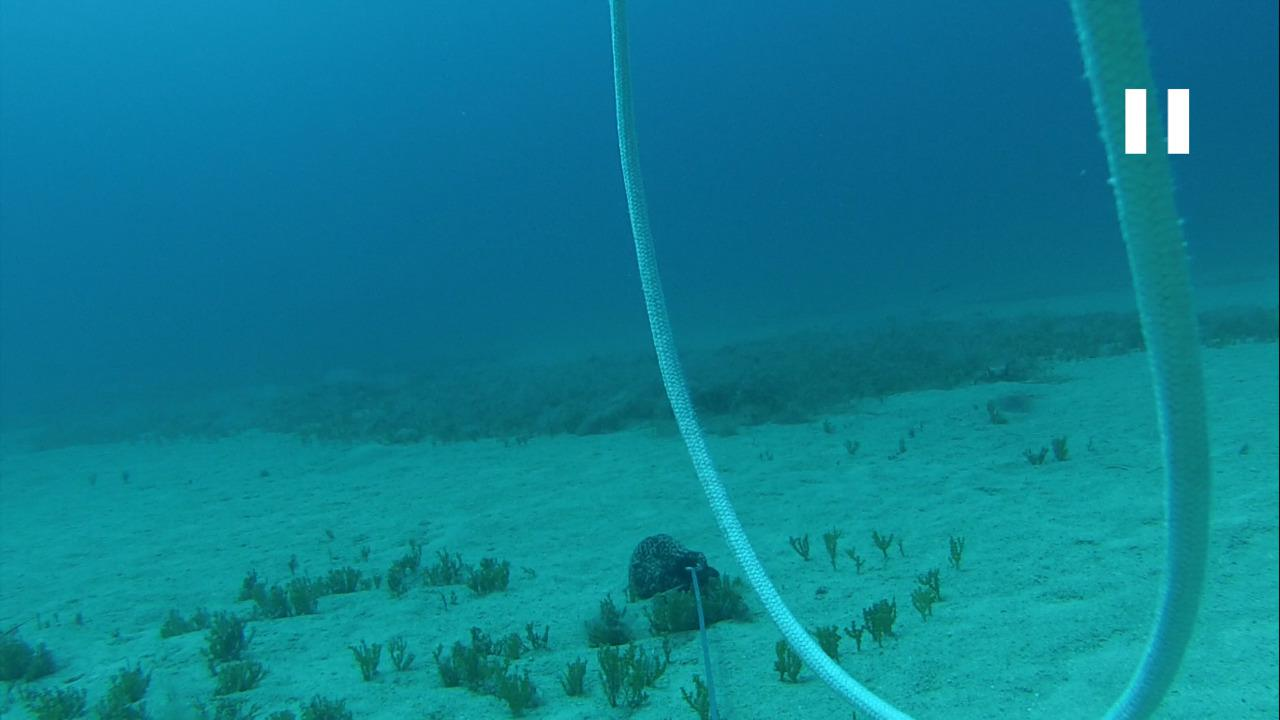dactylopterus: (962, 351, 1062, 387)
